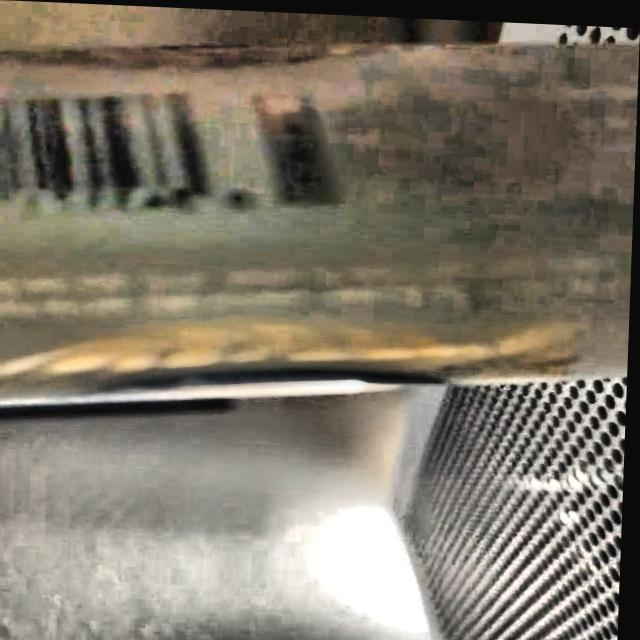can: (0, 11, 640, 445)
